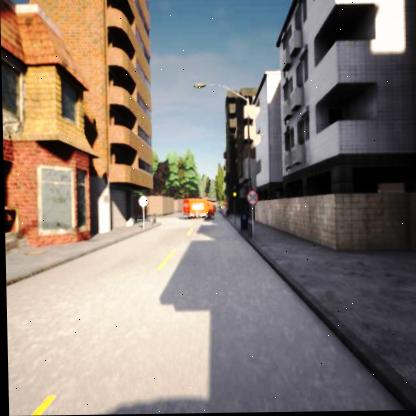vehicle: (182, 199, 213, 221)
